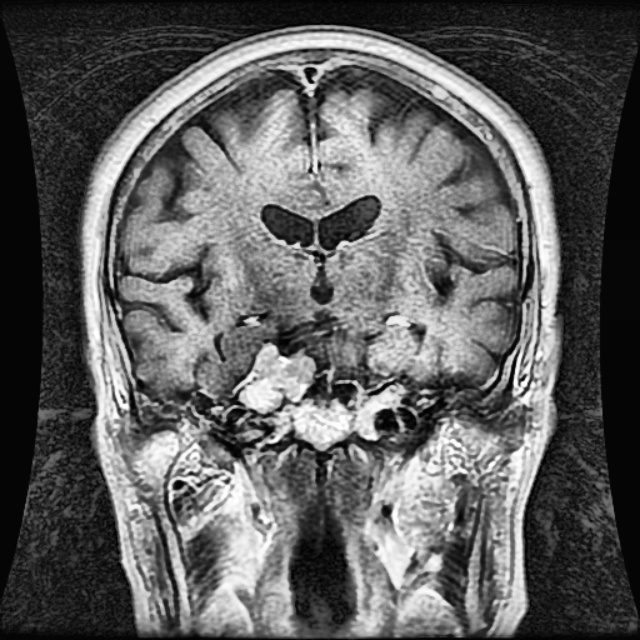Glioma: (234, 344, 314, 414)
